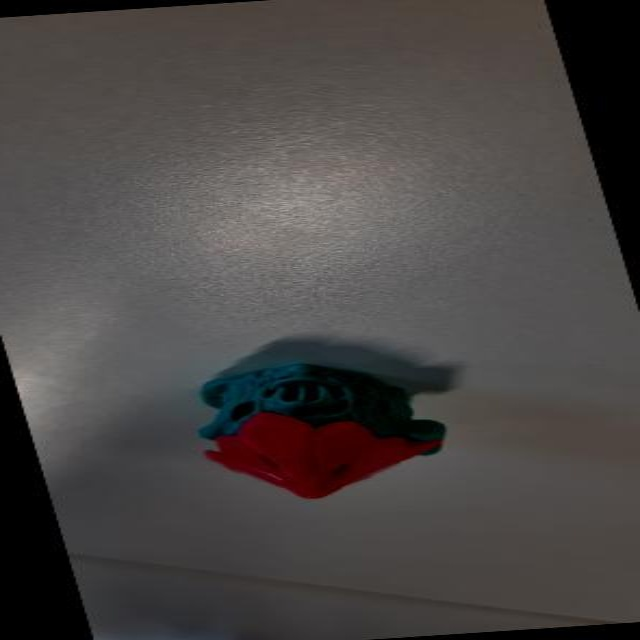House: (162, 321, 520, 515)
